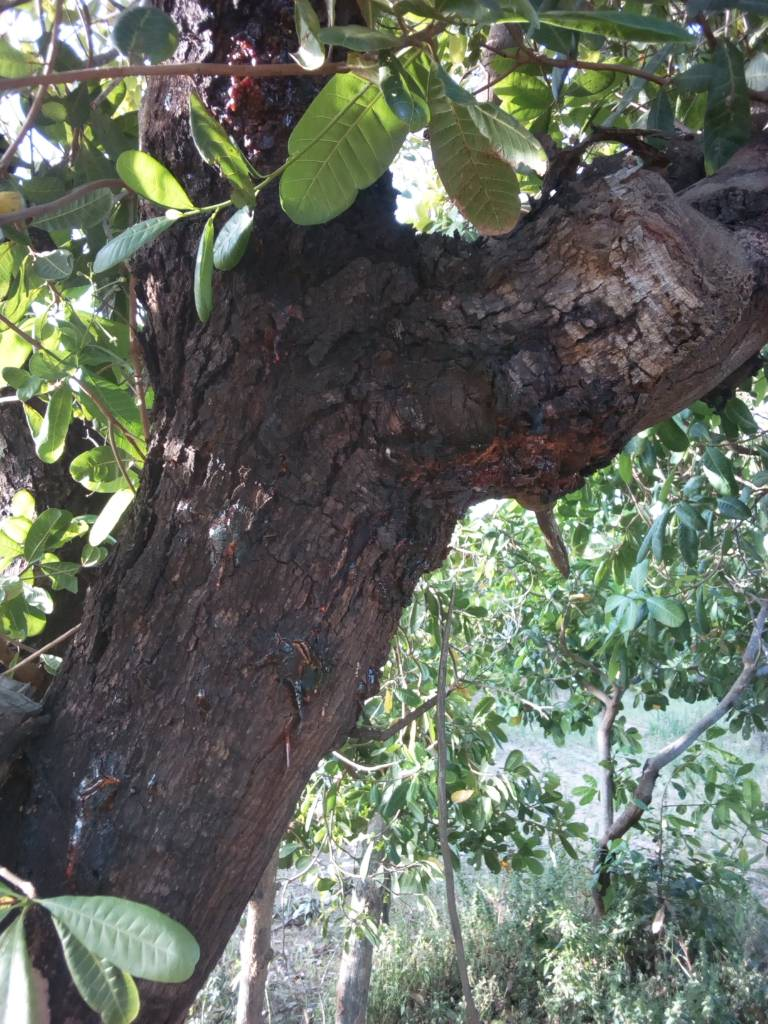Gommose: (369, 371, 647, 555)
